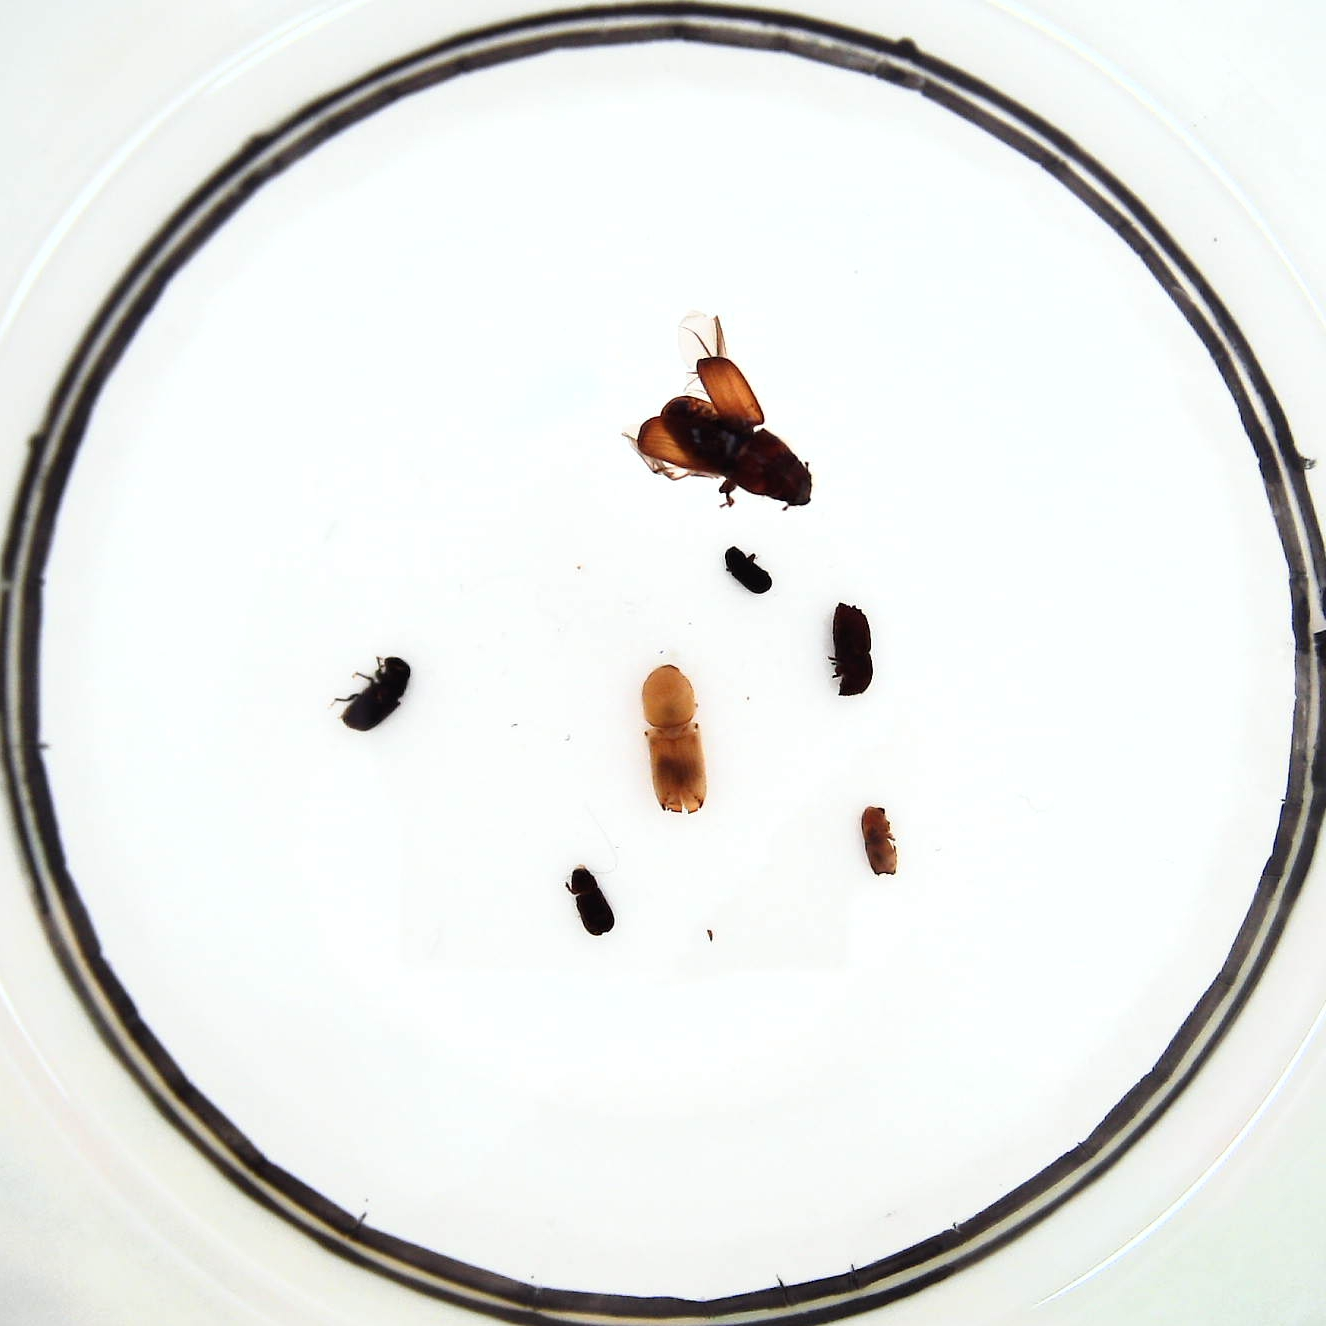Boerner: (644, 654, 710, 820)
Leconte: (635, 347, 814, 508)
Linnaeus: (824, 596, 874, 696)
acuminatus: (857, 805, 900, 882)
armandi: (347, 654, 410, 727)
coleoptera: (569, 862, 610, 937), (720, 546, 773, 591)
